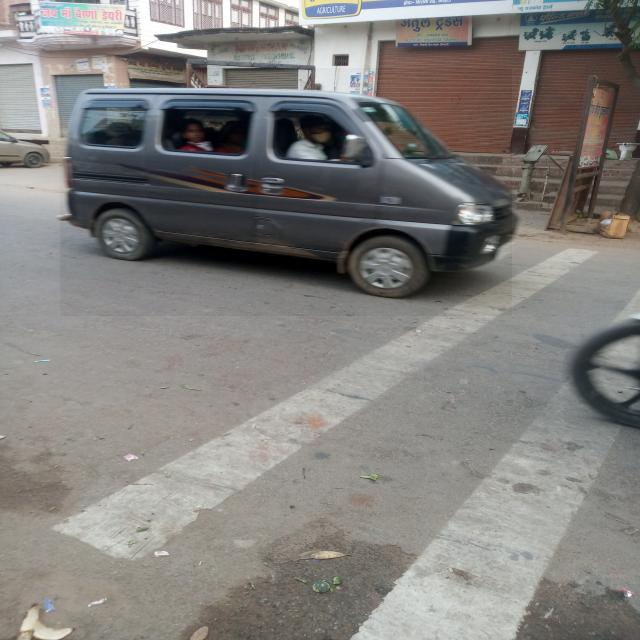Travller: (60, 68, 512, 316)
